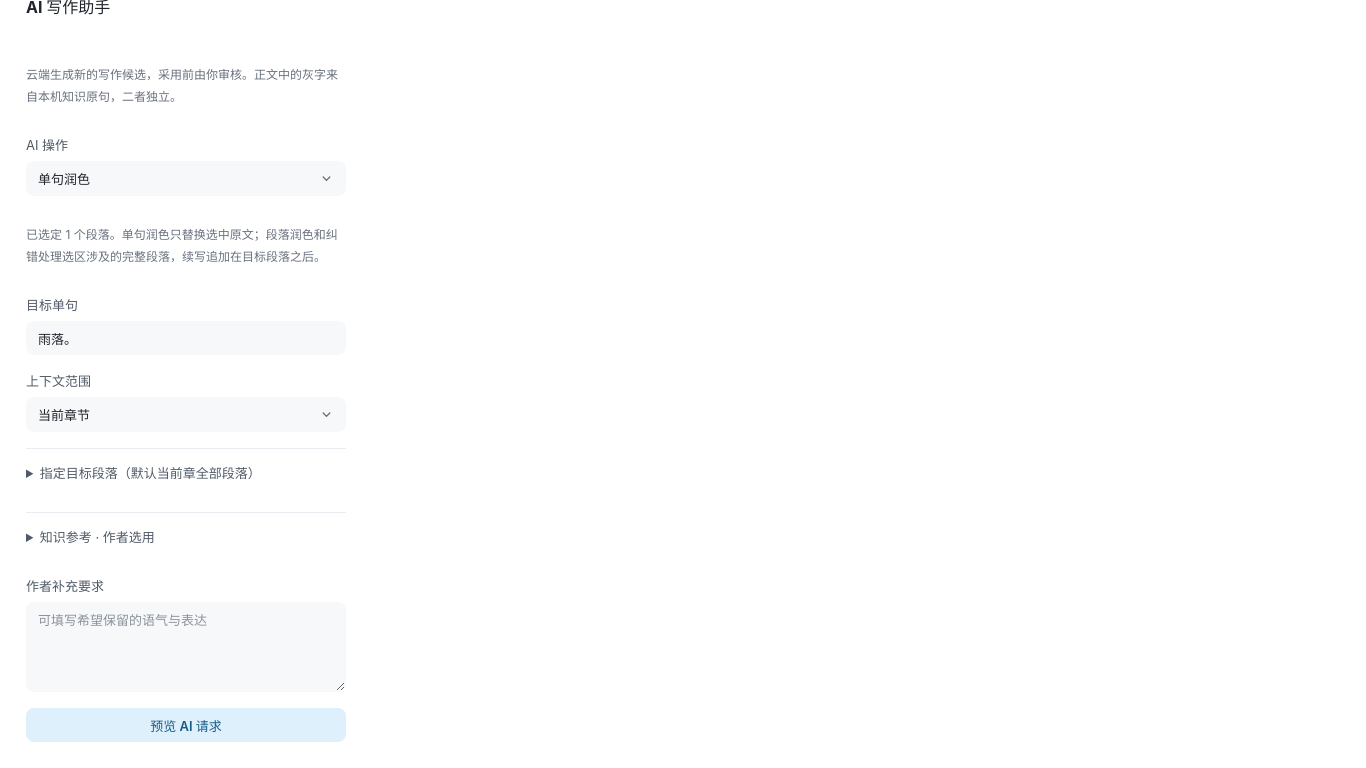
Test case: 正文右键带入重复单句真实选区，预览发送目标偏移且不自动联网
(page scrolled)
Expected: the field labelled "目标单句" holds "雨落。", [26,321,346,355]
Step 1. Click the button "预览 AI 请求" → (186, 725), box [26,708,346,742]
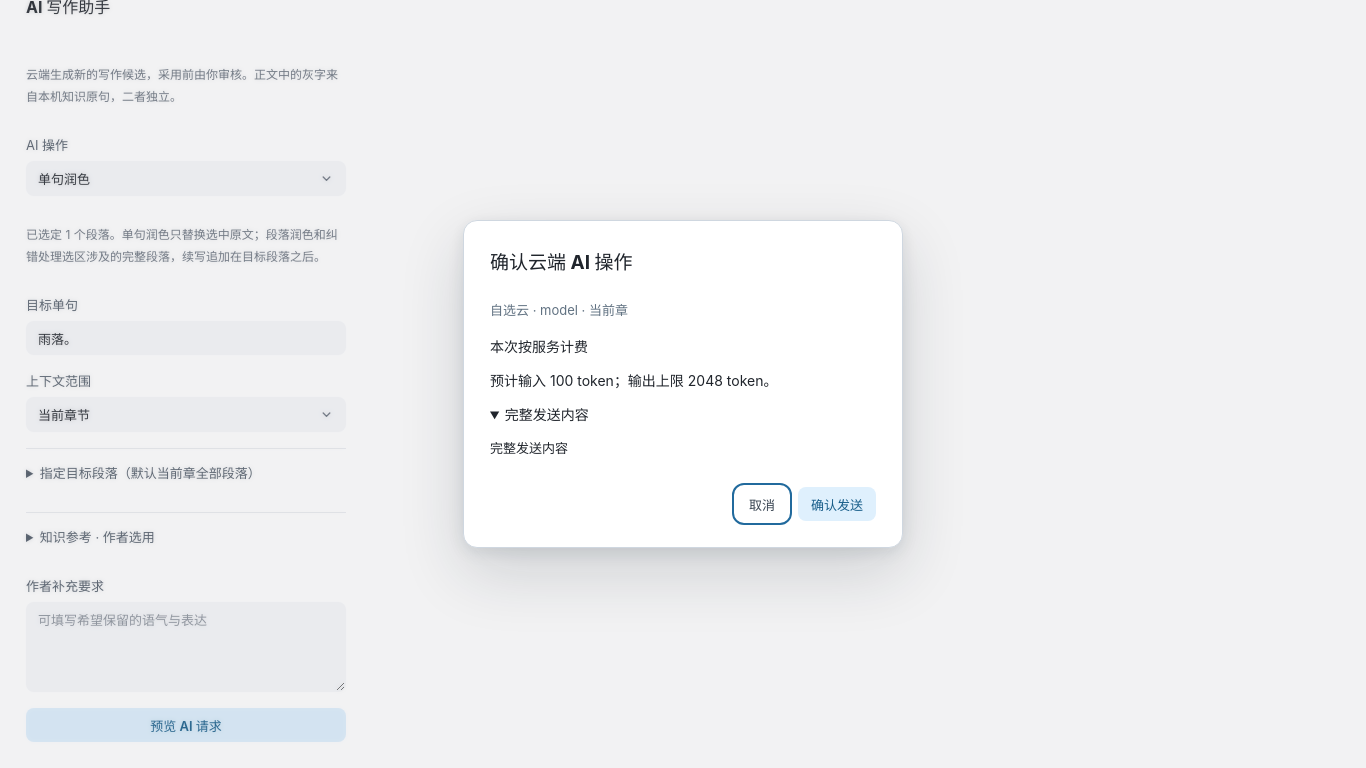
Expected: the dialog is shown, [463,220,903,548]
